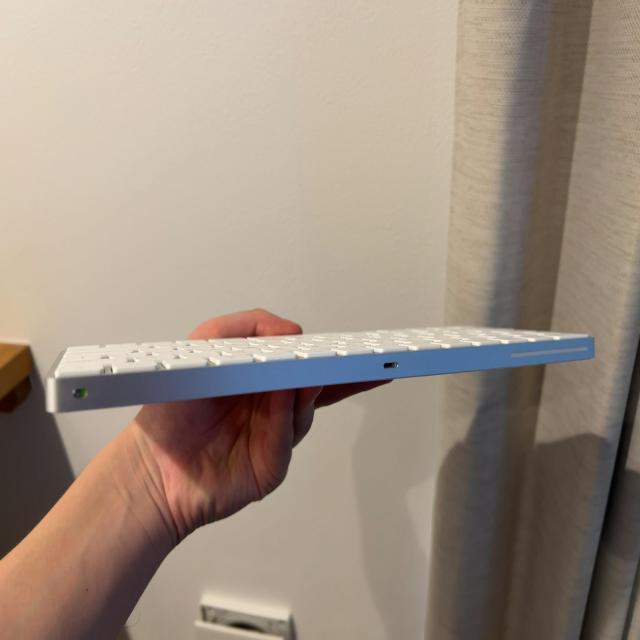keyboard: (42, 309, 596, 421)
